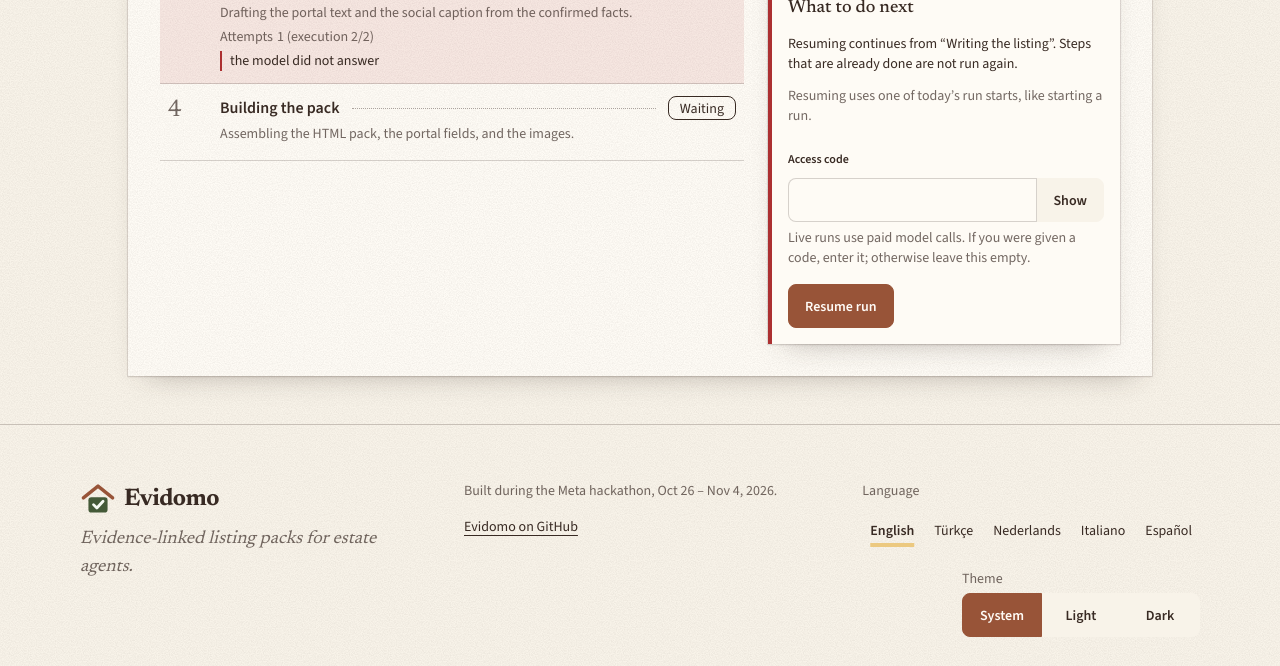
failed run: what stopped, what is kept, what to do › 409 run_budget_exhausted: says it cannot be resumed and points to a new run
(page scrolled)
Click the button "Resume run" at (841,306), box x1=788 y1=284 x2=894 y2=328
(page scrolled)
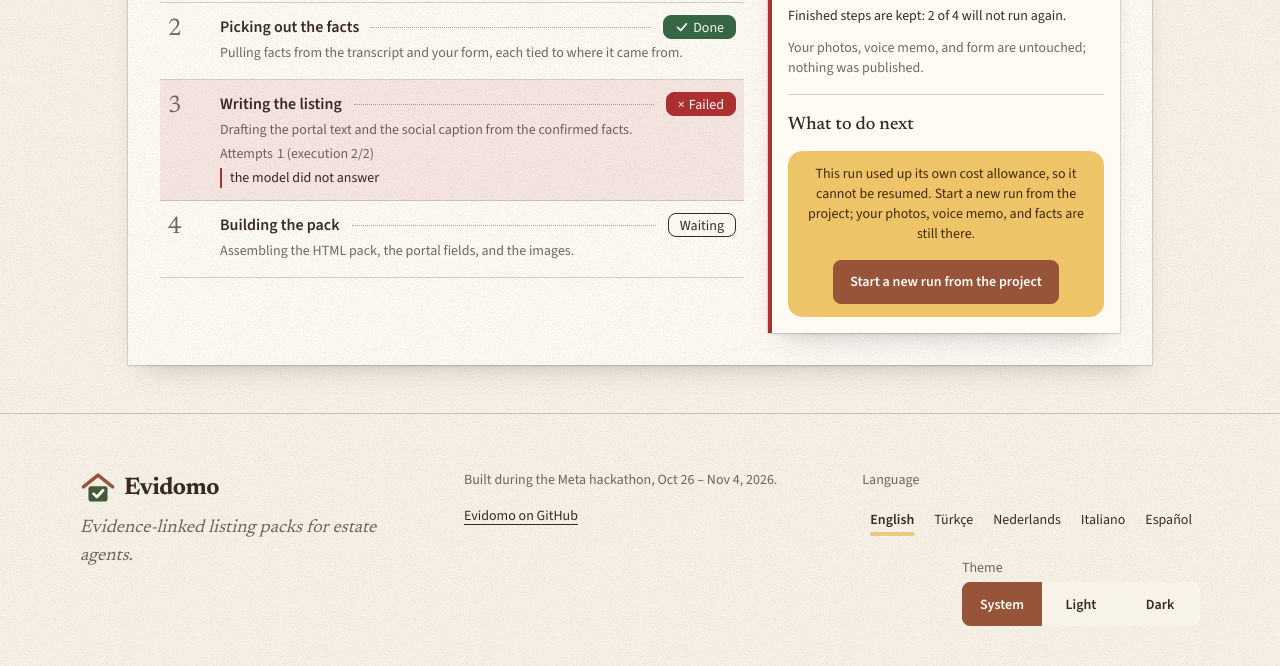
Result: the text "used up its own cost allowance" is shown at x1=808 y1=164 x2=1084 y2=243
Result: the button "Resume run" is gone
